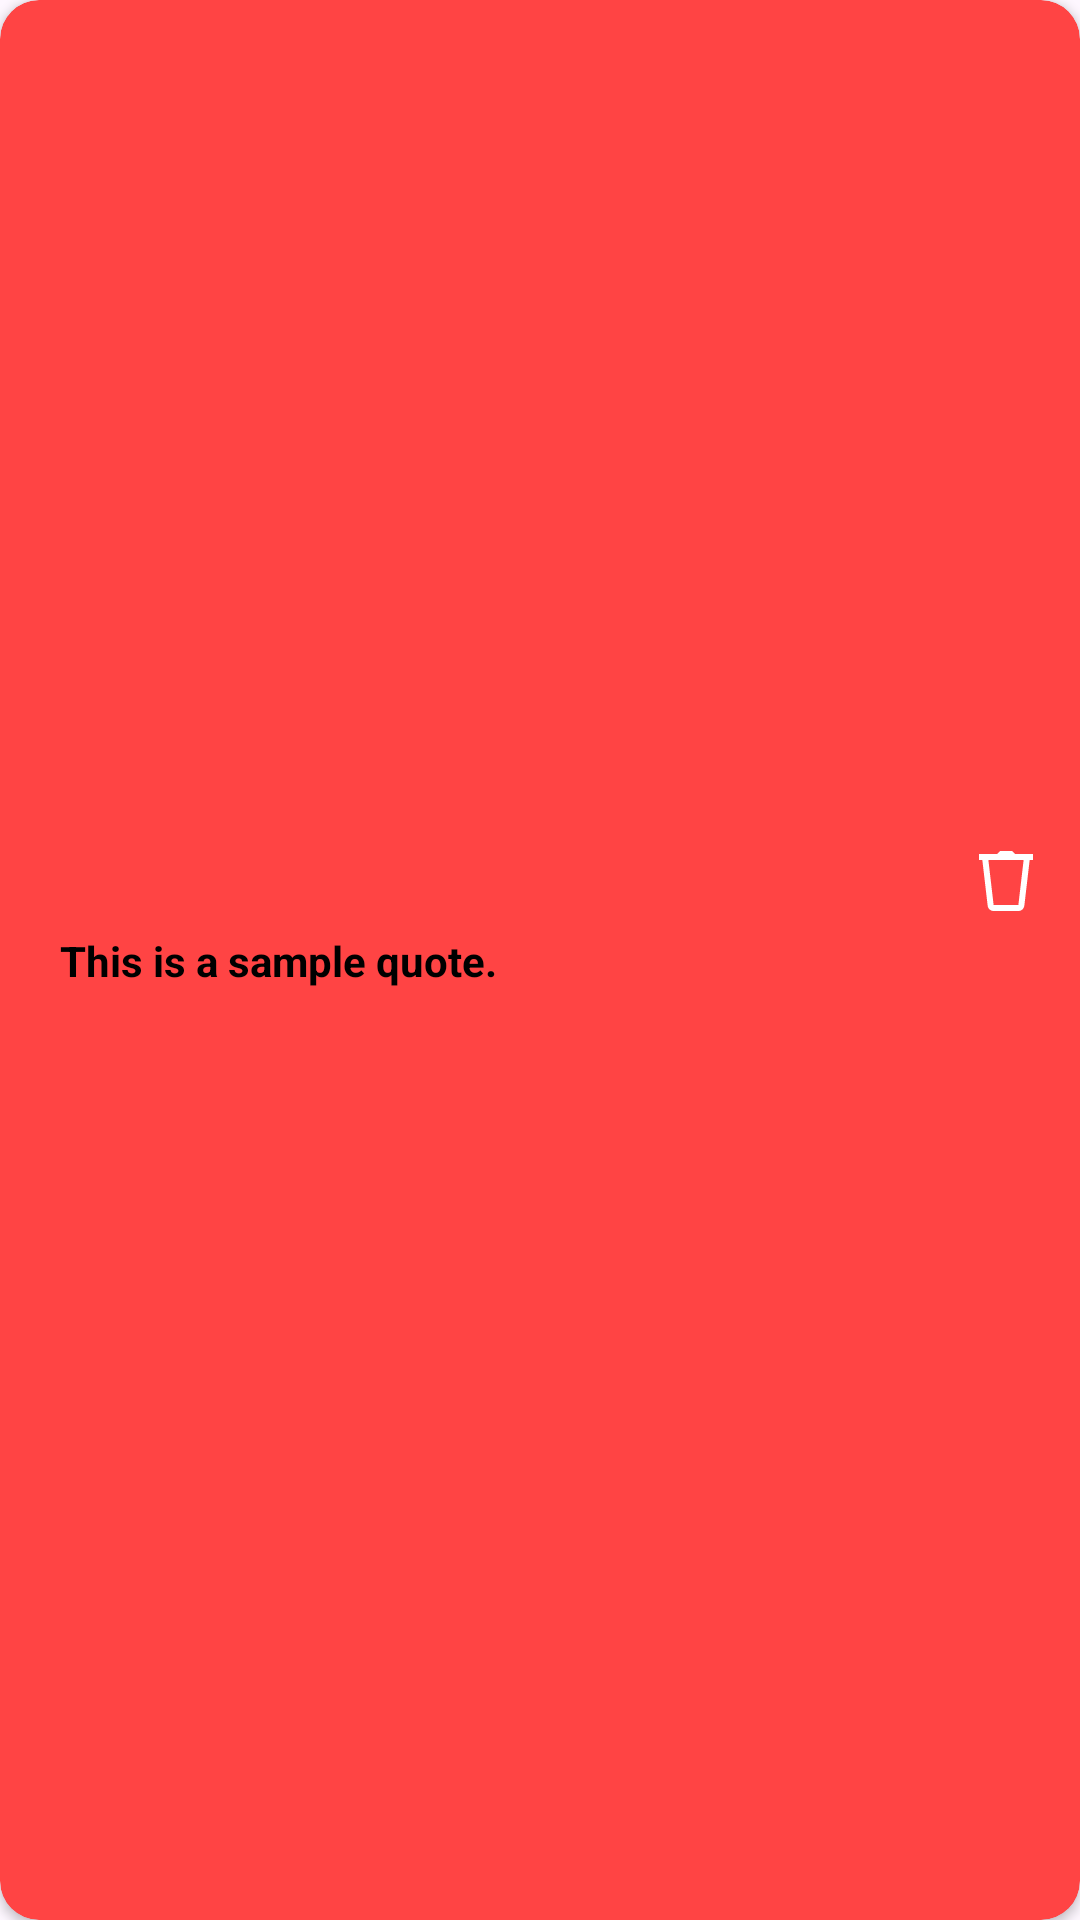

Screen size 1080x1920. Icon name, then its box in pixels as (x1, y1, x2, y2):
delete: (979, 851, 1033, 911)
